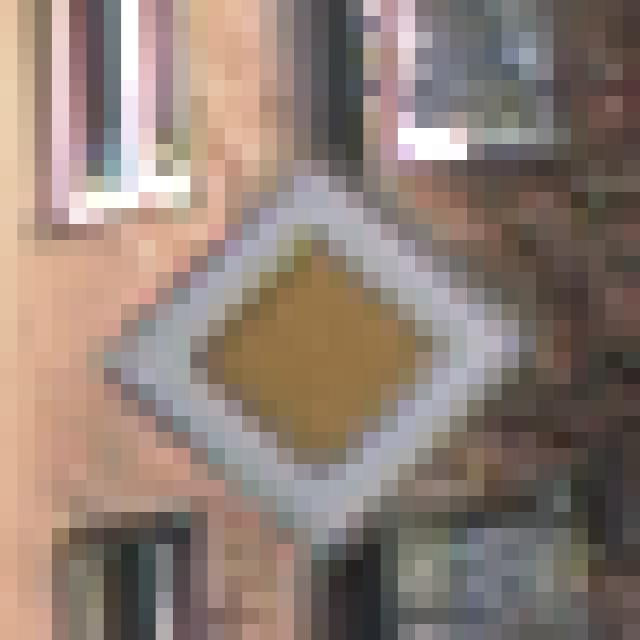Main Road: (88, 97, 555, 561)
